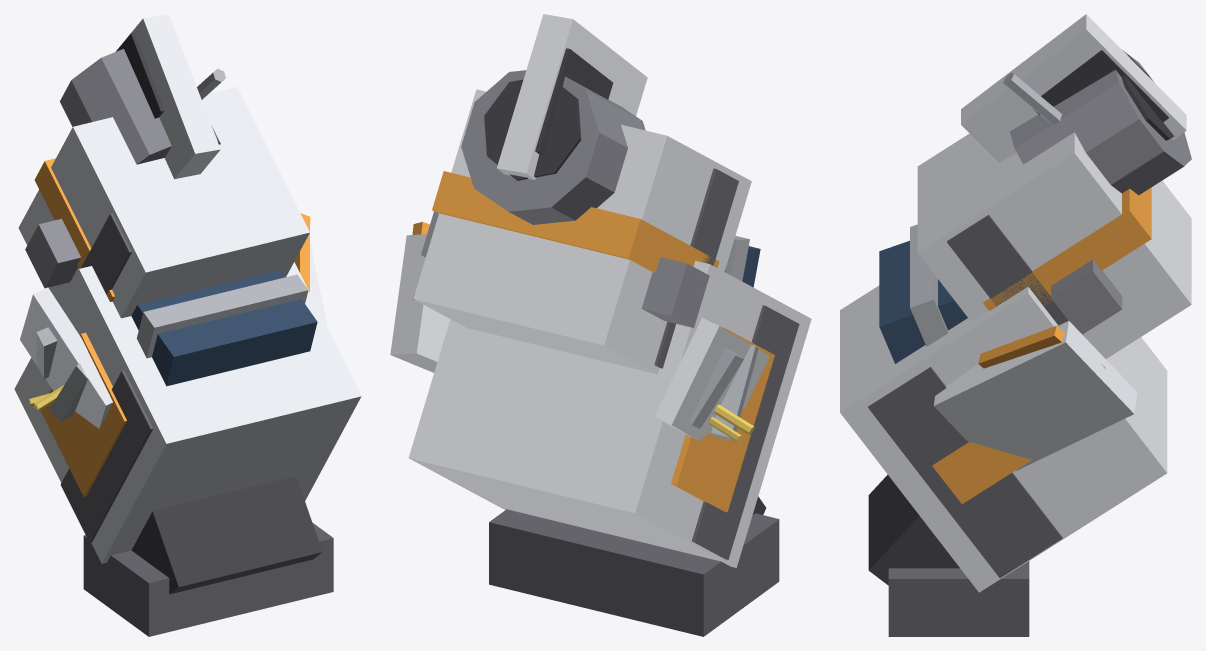
Rendered from wreck.glb.
3 renders of one model, left to right at view 1: azimuth 30°, elevation 25°; view 2: azimuth 150°, elevation 25°; view 3: azimuth 270°, elevation 25°, orthographic. The views are drawn at different scales.
Parts seen in each view (by area): view 1: Spaceship_Wreck; view 2: Spaceship_Wreck; view 3: Spaceship_Wreck.
Boxes of the visible parts, x1,y1,x2,y2 form: Spaceship_Wreck: (14,14,361,636); Spaceship_Wreck: (390,14,811,636); Spaceship_Wreck: (840,14,1191,636).
Bounding box in the file's own units: 1.11 × 1.97 × 1.1.
